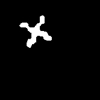single_crochet: (20, 16, 51, 46)
